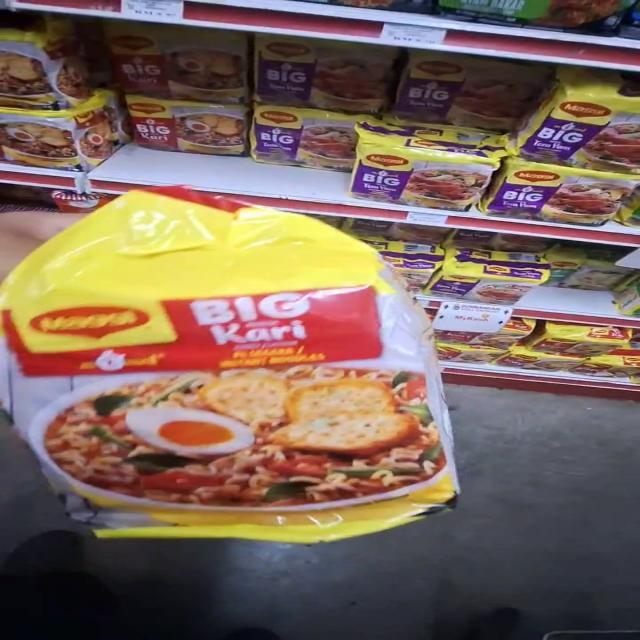Maggi: (26, 217, 478, 545)
